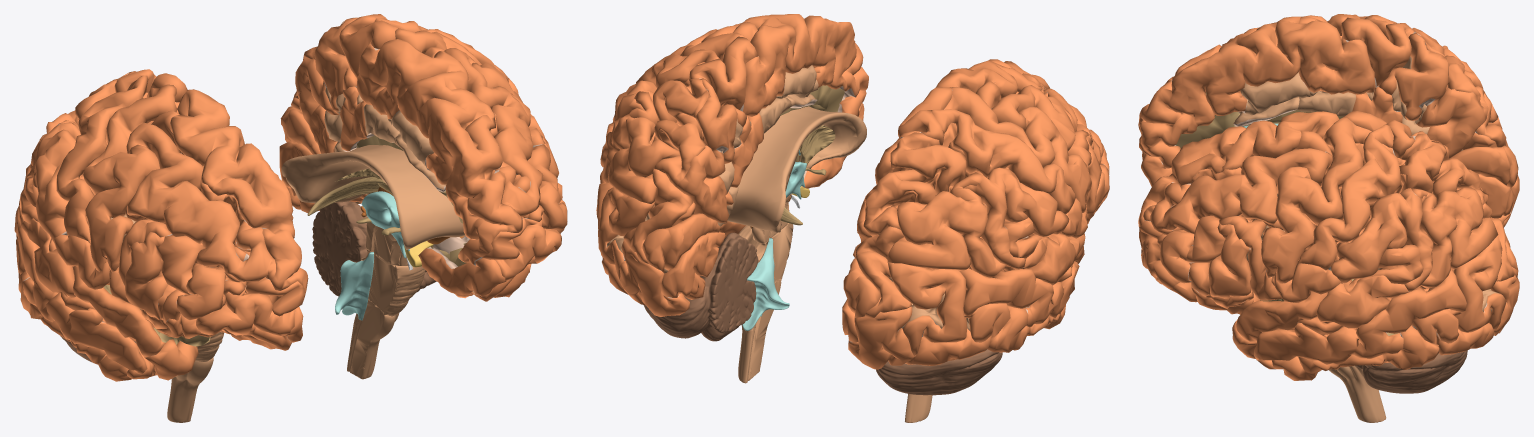
The model's file is brain.glb.
3 renders of one model, left to right at view 1: azimuth 30°, elevation 25°; view 2: azimuth 150°, elevation 25°; view 3: azimuth 270°, elevation 25°, orthographic. The views are drawn at different scales.
Visible parts, largest first — view 1: Superior frontal gyrus.r.002, Middle frontal gyrus.r.001, Superior frontal gyrus.r.001, Corpus callosum, Precentral gyrus.r.001, Middle frontal gyrus.r.002, Middle temporal gyrus.r.001, Superior temporal gyrus (Lateral part).r.001, Postcentral gyrus.r.001, Precuneus.r.002, Cerebellum.r.002, Supramarginal gyrus.r.001 (+35 smaller); view 2: Superior frontal gyrus.r.002, Corpus callosum, Angular gyrus.r.001, Cerebellum.r.002, Superior parietal lobule.r.001, Postcentral gyrus.r.001, Supramarginal gyrus.r.001, Precuneus.r.002, Lateral occipital gyrus (Middle occipital gyrus*).r.001, Angular gyrus.r.002, Precentral gyrus.r.001, Middle temporal gyrus.r.001 (+37 smaller); view 3: Superior frontal gyrus.r.001, Middle frontal gyrus.r.002, Precentral gyrus.r.002, Middle temporal gyrus.r.002, Superior frontal gyrus.r.002, Precuneus.r.001, Superior temporal gyrus (Lateral part).r.002, Postcentral gyrus.r.002, Supramarginal gyrus.r.002, Angular gyrus.r.002, Inferior temporal gyrus.r.002, Superior parietal lobule.r.002 (+31 smaller).
Part boxes in pixels (x1,y1,x2,y2): Superior frontal gyrus.r.002: (356,39,522,265); Middle frontal gyrus.r.001: (126,122,275,319); Superior frontal gyrus.r.001: (170,89,308,297); Corpus callosum: (281,145,465,249); Precentral gyrus.r.001: (83,84,177,272); Middle frontal gyrus.r.002: (444,48,567,229); Middle temporal gyrus.r.001: (14,206,147,374); Superior temporal gyrus (Lateral part).r.001: (21,218,165,357); Postcentral gyrus.r.001: (56,75,148,243); Precuneus.r.002: (295,18,357,153); Cerebellum.r.002: (312,201,436,296); Supramarginal gyrus.r.001: (19,122,80,242); Superior frontal gyrus.r.002: (740,14,868,116); Corpus callosum: (727,106,866,232); Angular gyrus.r.001: (887,172,1006,277); Cerebellum.r.002: (643,232,757,341); Superior parietal lobule.r.001: (863,132,966,236); Postcentral gyrus.r.001: (931,109,1075,214); Supramarginal gyrus.r.001: (963,167,1069,269); Precuneus.r.002: (676,78,746,222); Lateral occipital gyrus (Middle occipital gyrus*).r.001: (887,262,967,356); Angular gyrus.r.002: (602,91,680,203); Precentral gyrus.r.001: (944,87,1091,212); Middle temporal gyrus.r.001: (959,261,1079,327); Superior frontal gyrus.r.001: (1138,16,1376,168); Middle frontal gyrus.r.002: (1143,148,1332,283); Precentral gyrus.r.002: (1261,116,1371,283); Middle temporal gyrus.r.002: (1254,270,1466,364); Superior frontal gyrus.r.002: (1138,111,1339,226); Precuneus.r.001: (1378,33,1488,158); Superior temporal gyrus (Lateral part).r.002: (1236,275,1409,342); Postcentral gyrus.r.002: (1297,124,1401,270); Supramarginal gyrus.r.002: (1331,188,1433,291); Angular gyrus.r.002: (1411,187,1498,289); Inferior temporal gyrus.r.002: (1272,308,1461,380); Superior parietal lobule.r.002: (1399,133,1488,205).
Size of the model in its own units: 0.2265 by 0.1609 by 0.1769.
